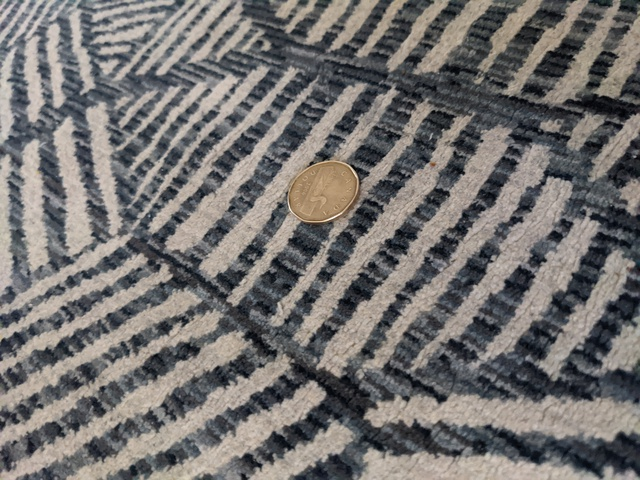loonie: (281, 152, 373, 236)
